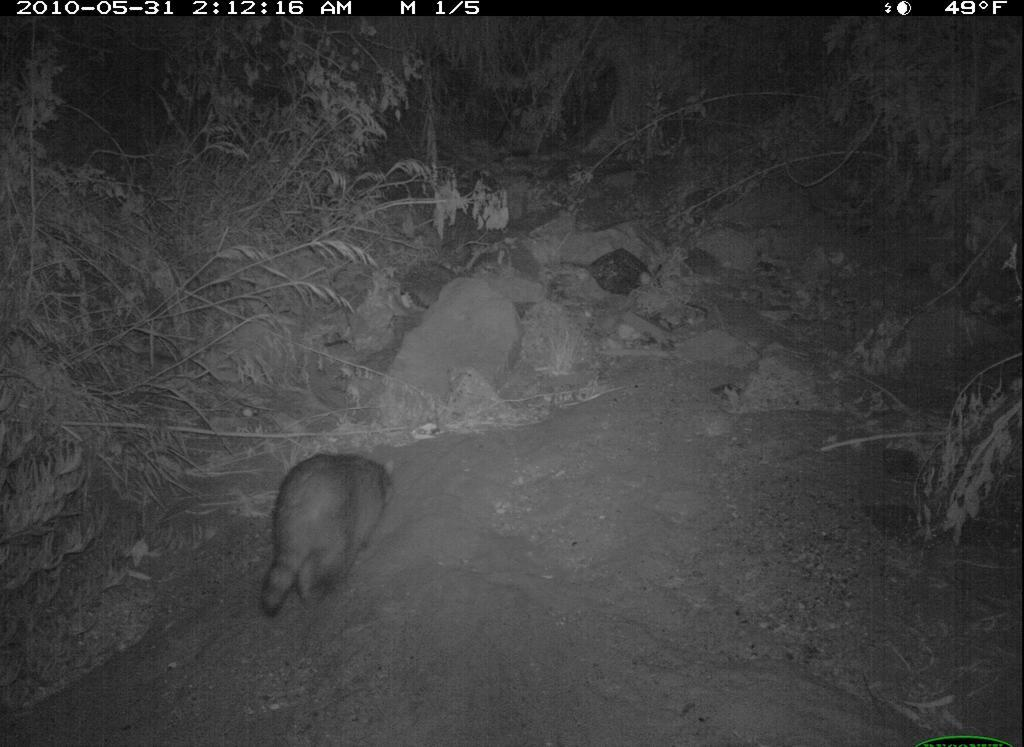raccoon: (257, 433, 404, 628)
